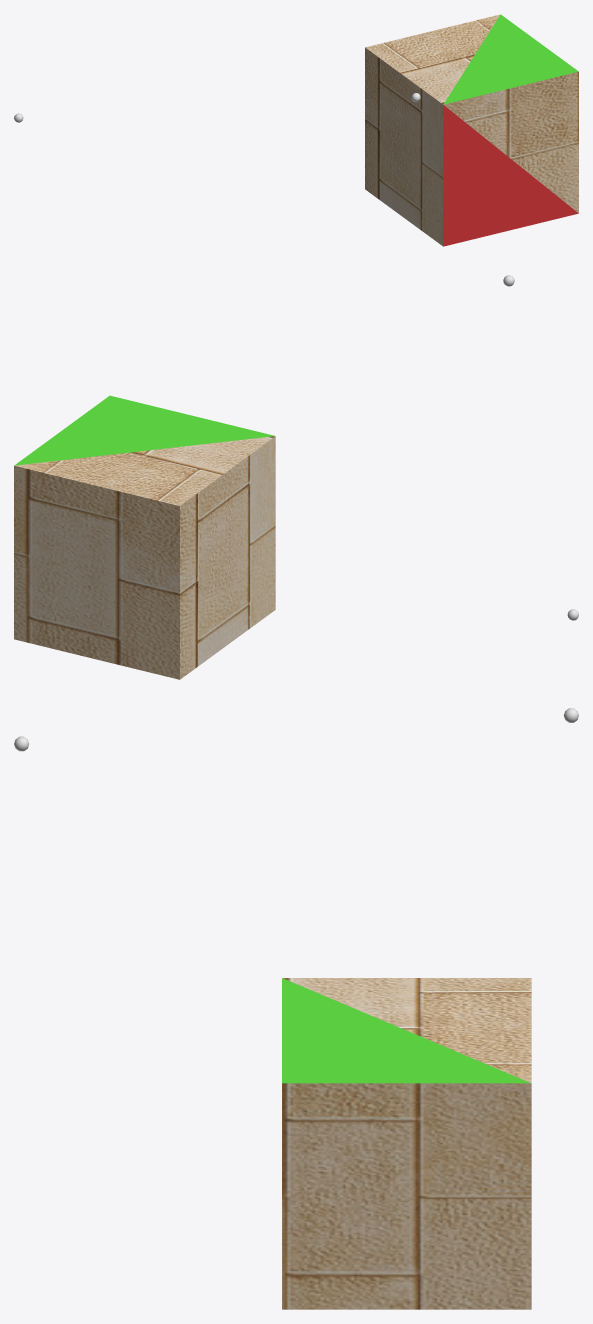
The model's file is texcube.gltf.
3 renders of one model, top to bottom at view 1: azimuth 30°, elevation 25°; view 2: azimuth 150°, elevation 25°; view 3: azimuth 270°, elevation 25°, orthographic. The views are drawn at different scales.
Visible parts, largest first — view 1: Cube; view 2: Cube; view 3: Cube.
Part boxes in pixels (box(x1,y1,x2,y2)): Cube: box(365, 14, 578, 246); Cube: box(14, 395, 275, 679); Cube: box(282, 978, 531, 1309).
Size of the model in its own units: 6.98 by 3.38 by 4.53.
4 materials, 1 textured.
